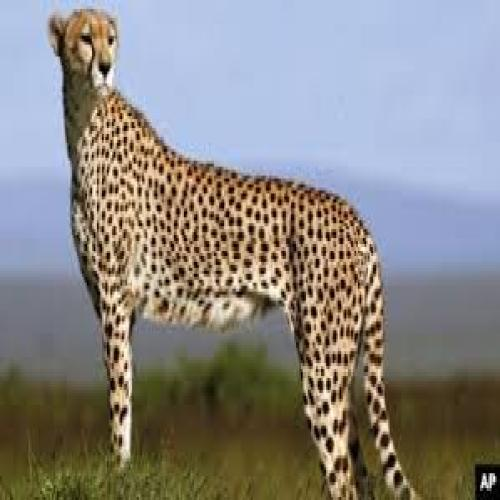cheetah-endangered: (46, 6, 416, 495)
